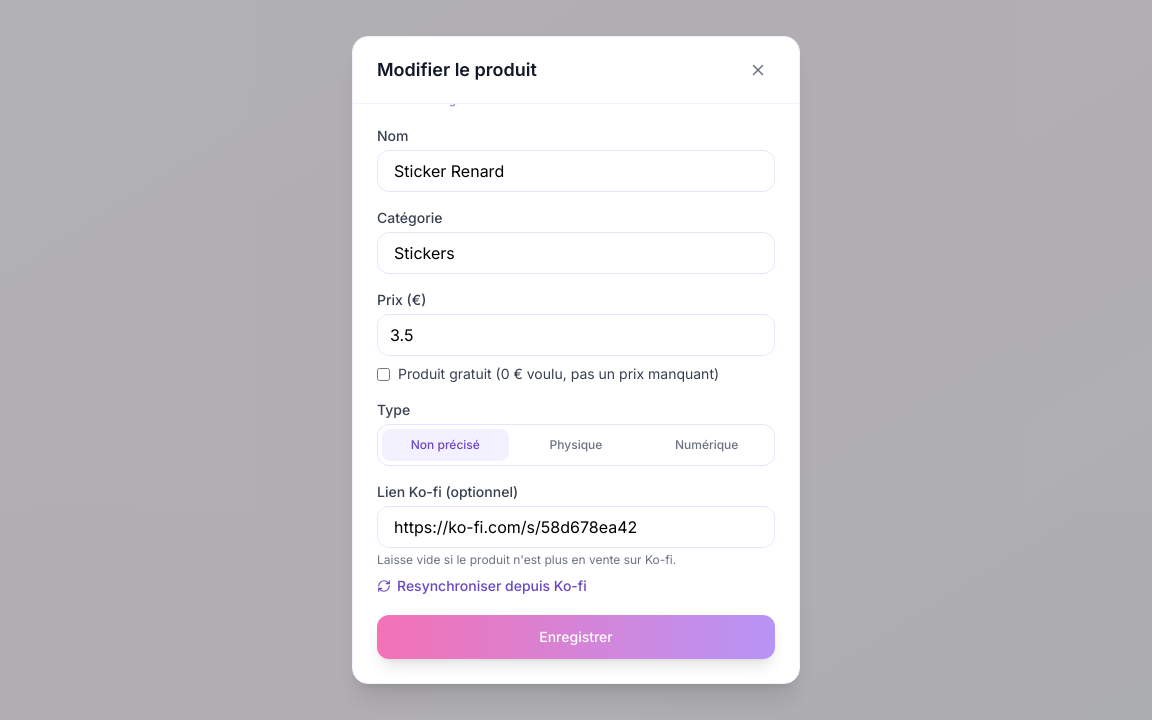
it: ProductForm : modification et resynchronisation › « Déjà à jour » quand rien ne diffère
This screenshot has width=1152, height=720.
(page scrolled)
Step 1. Click the button "Resynchroniser depuis Ko-fi" → (482, 586), box [377,576,587,596]
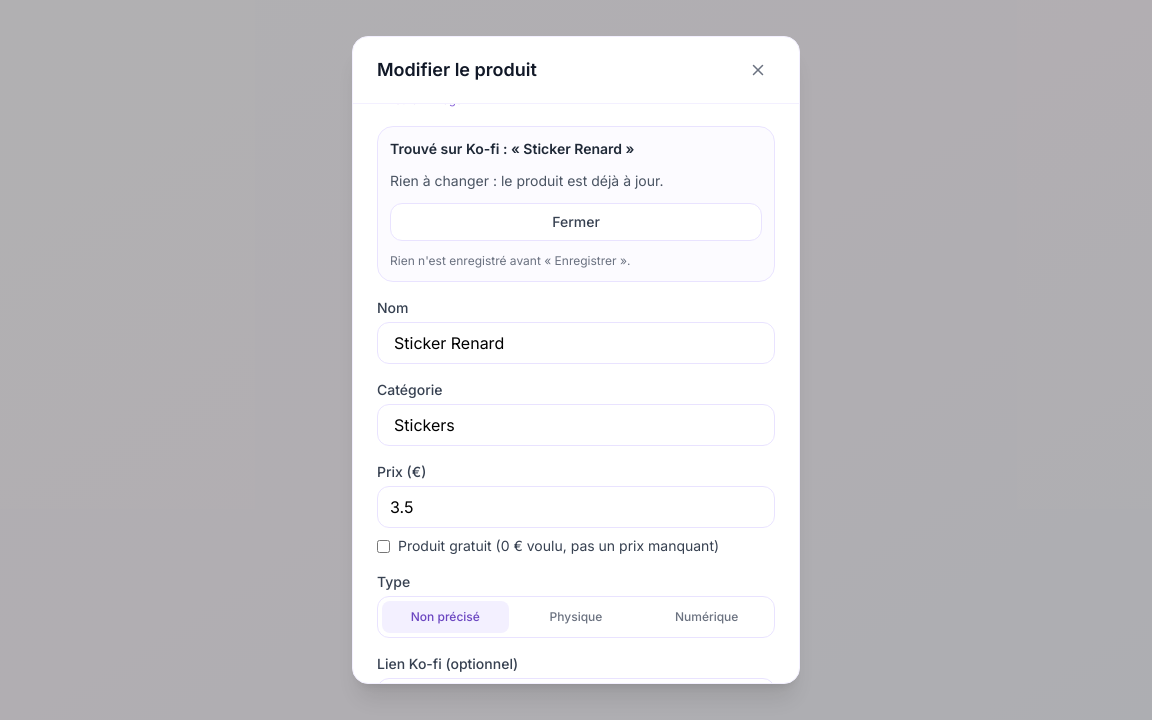
Result: the text "Rien à changer : le produit est déjà à jour." is shown at [390,172,664,189]
